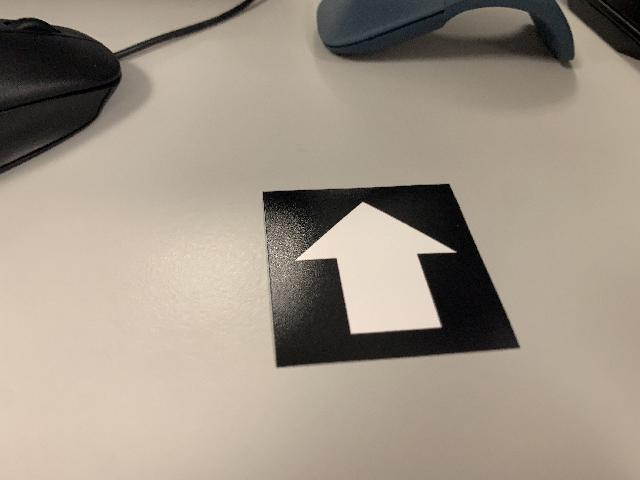up: (254, 182, 523, 373)
